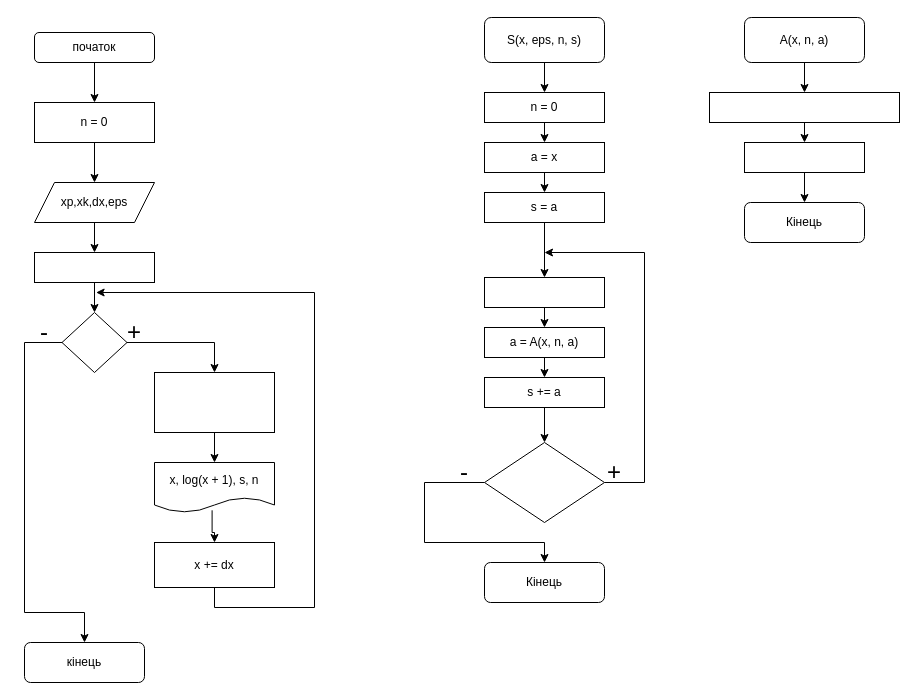
Some shapes in this 917 by 700 pixel diagram are drawn without their labels. The shapes that lost their labels are listed below. From the top down, each one's box as (x1, y1, x2, y2) in pixels, then its label:
(708, 92, 900, 122): R = (-1 * ((n + 1) * x) / (n + 2))
(744, 142, 864, 172): a *= R
(34, 252, 154, 282): x = xp
(484, 276, 604, 308): n++
(61, 312, 127, 372): x <= xk
(154, 372, 274, 432): s = S(x, eps, n , s)
(484, 442, 604, 522): abs(a) >= eps
